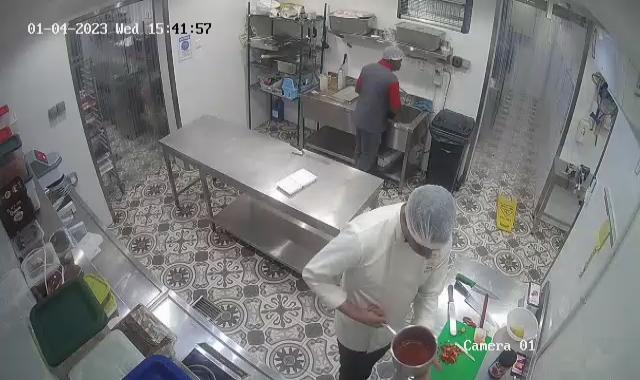hairnet: (400, 185, 457, 253), (381, 44, 404, 65)
